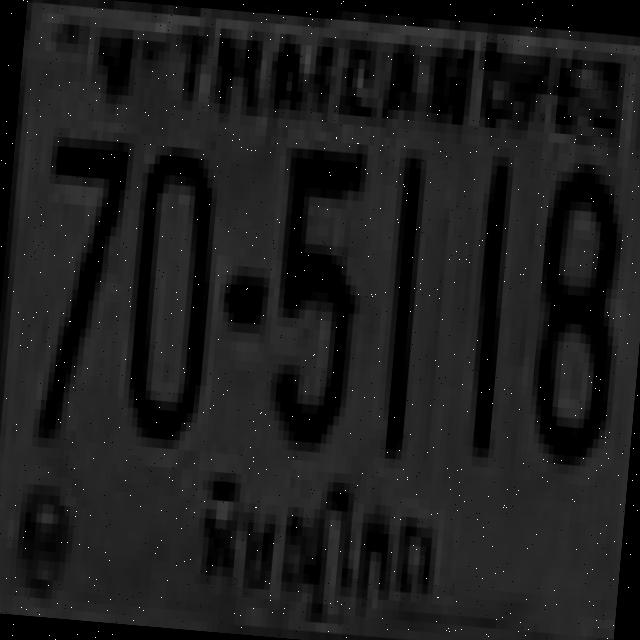0: (96, 100, 228, 468)
1: (448, 145, 534, 471), (386, 132, 436, 461)
5: (252, 106, 374, 458)
7: (8, 103, 142, 460)
8: (518, 139, 630, 473)
Phitsanulok: (162, 453, 490, 631)
